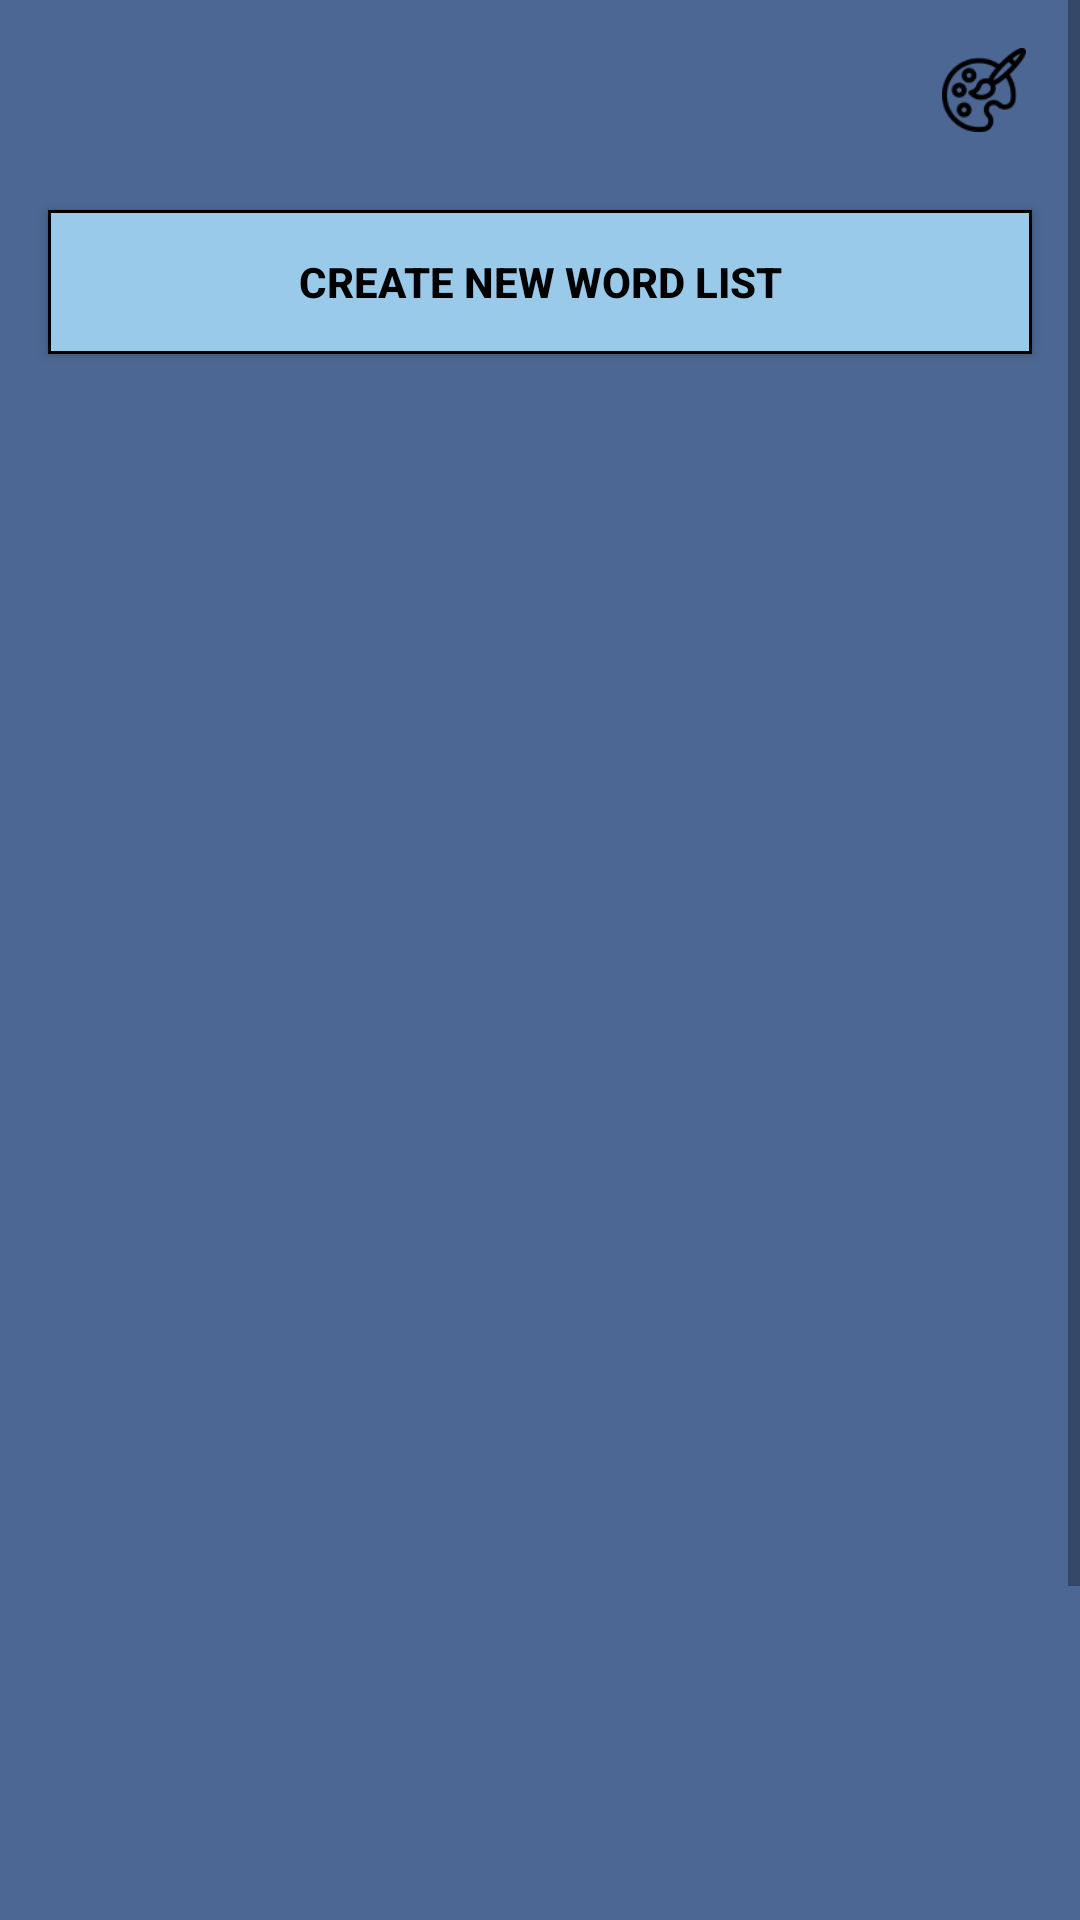

Named icons in this screenshot (1080×1920) and their bounding boxes, (x1, y1, x2, y2):
paint: (942, 48, 1026, 132)
